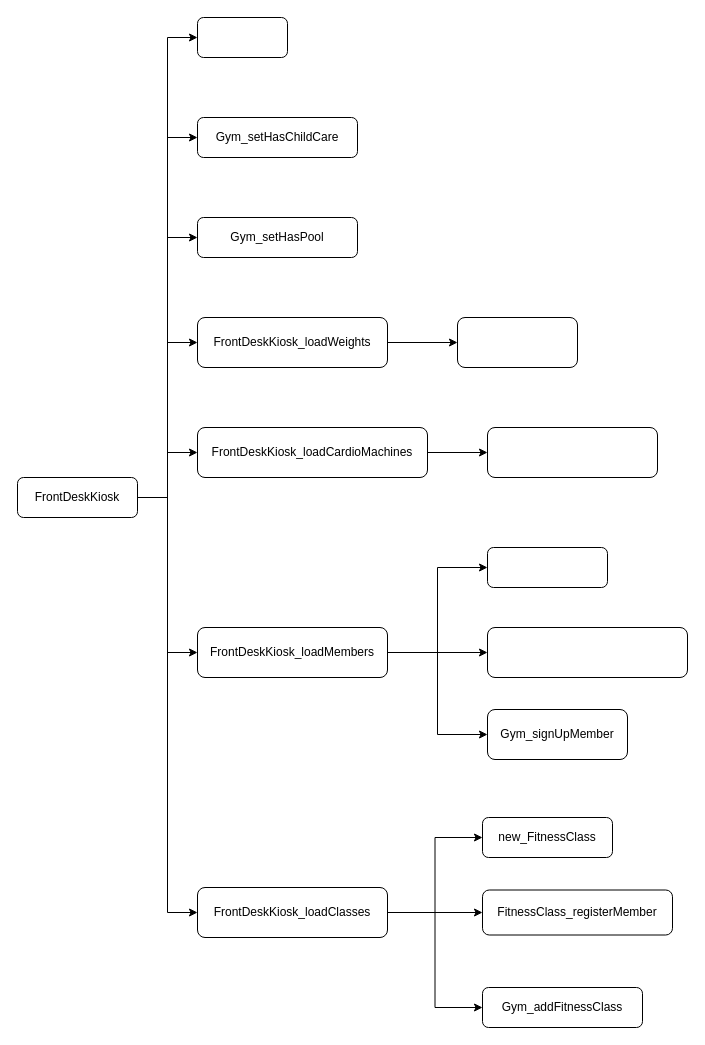
Some shapes in this 705 by 1045 pixel diagram are drawn without their labels. Each missing label, with the box of its shape:
Gym_addCardioMachine: (486, 426, 658, 478)
Gym_addWeight: (456, 316, 578, 368)
Member_setMembershipLevel: (486, 626, 688, 678)
new_Gym: (196, 16, 288, 58)
new_Member: (486, 546, 608, 588)
